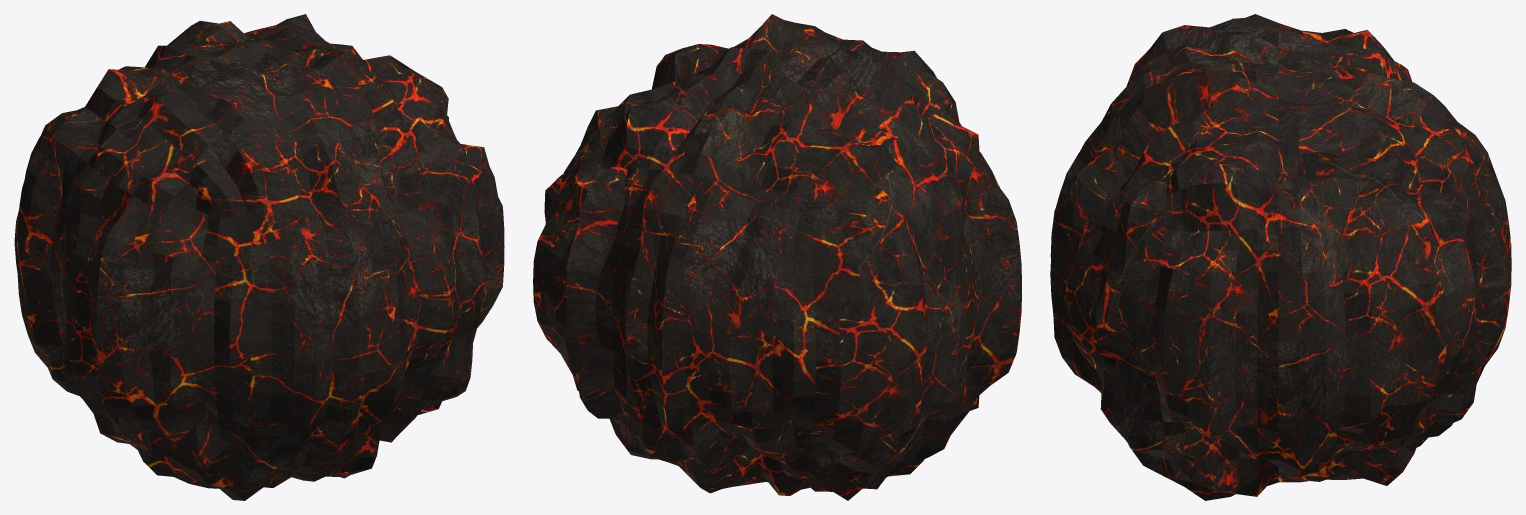
Rendered from asteroid166.obj.
3 views of the same model, side by side, from view 1: azimuth 30°, elevation 25°; view 2: azimuth 150°, elevation 25°; view 3: azimuth 270°, elevation 25° (orthographic).
Visible parts, largest first — view 1: Cube_Cube.002; view 2: Cube_Cube.002; view 3: Cube_Cube.002.
Boxes of the visible parts, x1,y1,x2,y2 form: Cube_Cube.002: (14, 14, 504, 500); Cube_Cube.002: (533, 14, 1021, 500); Cube_Cube.002: (1050, 14, 1511, 500).
Size of the model in its own units: 1.82 by 1.83 by 1.77.
